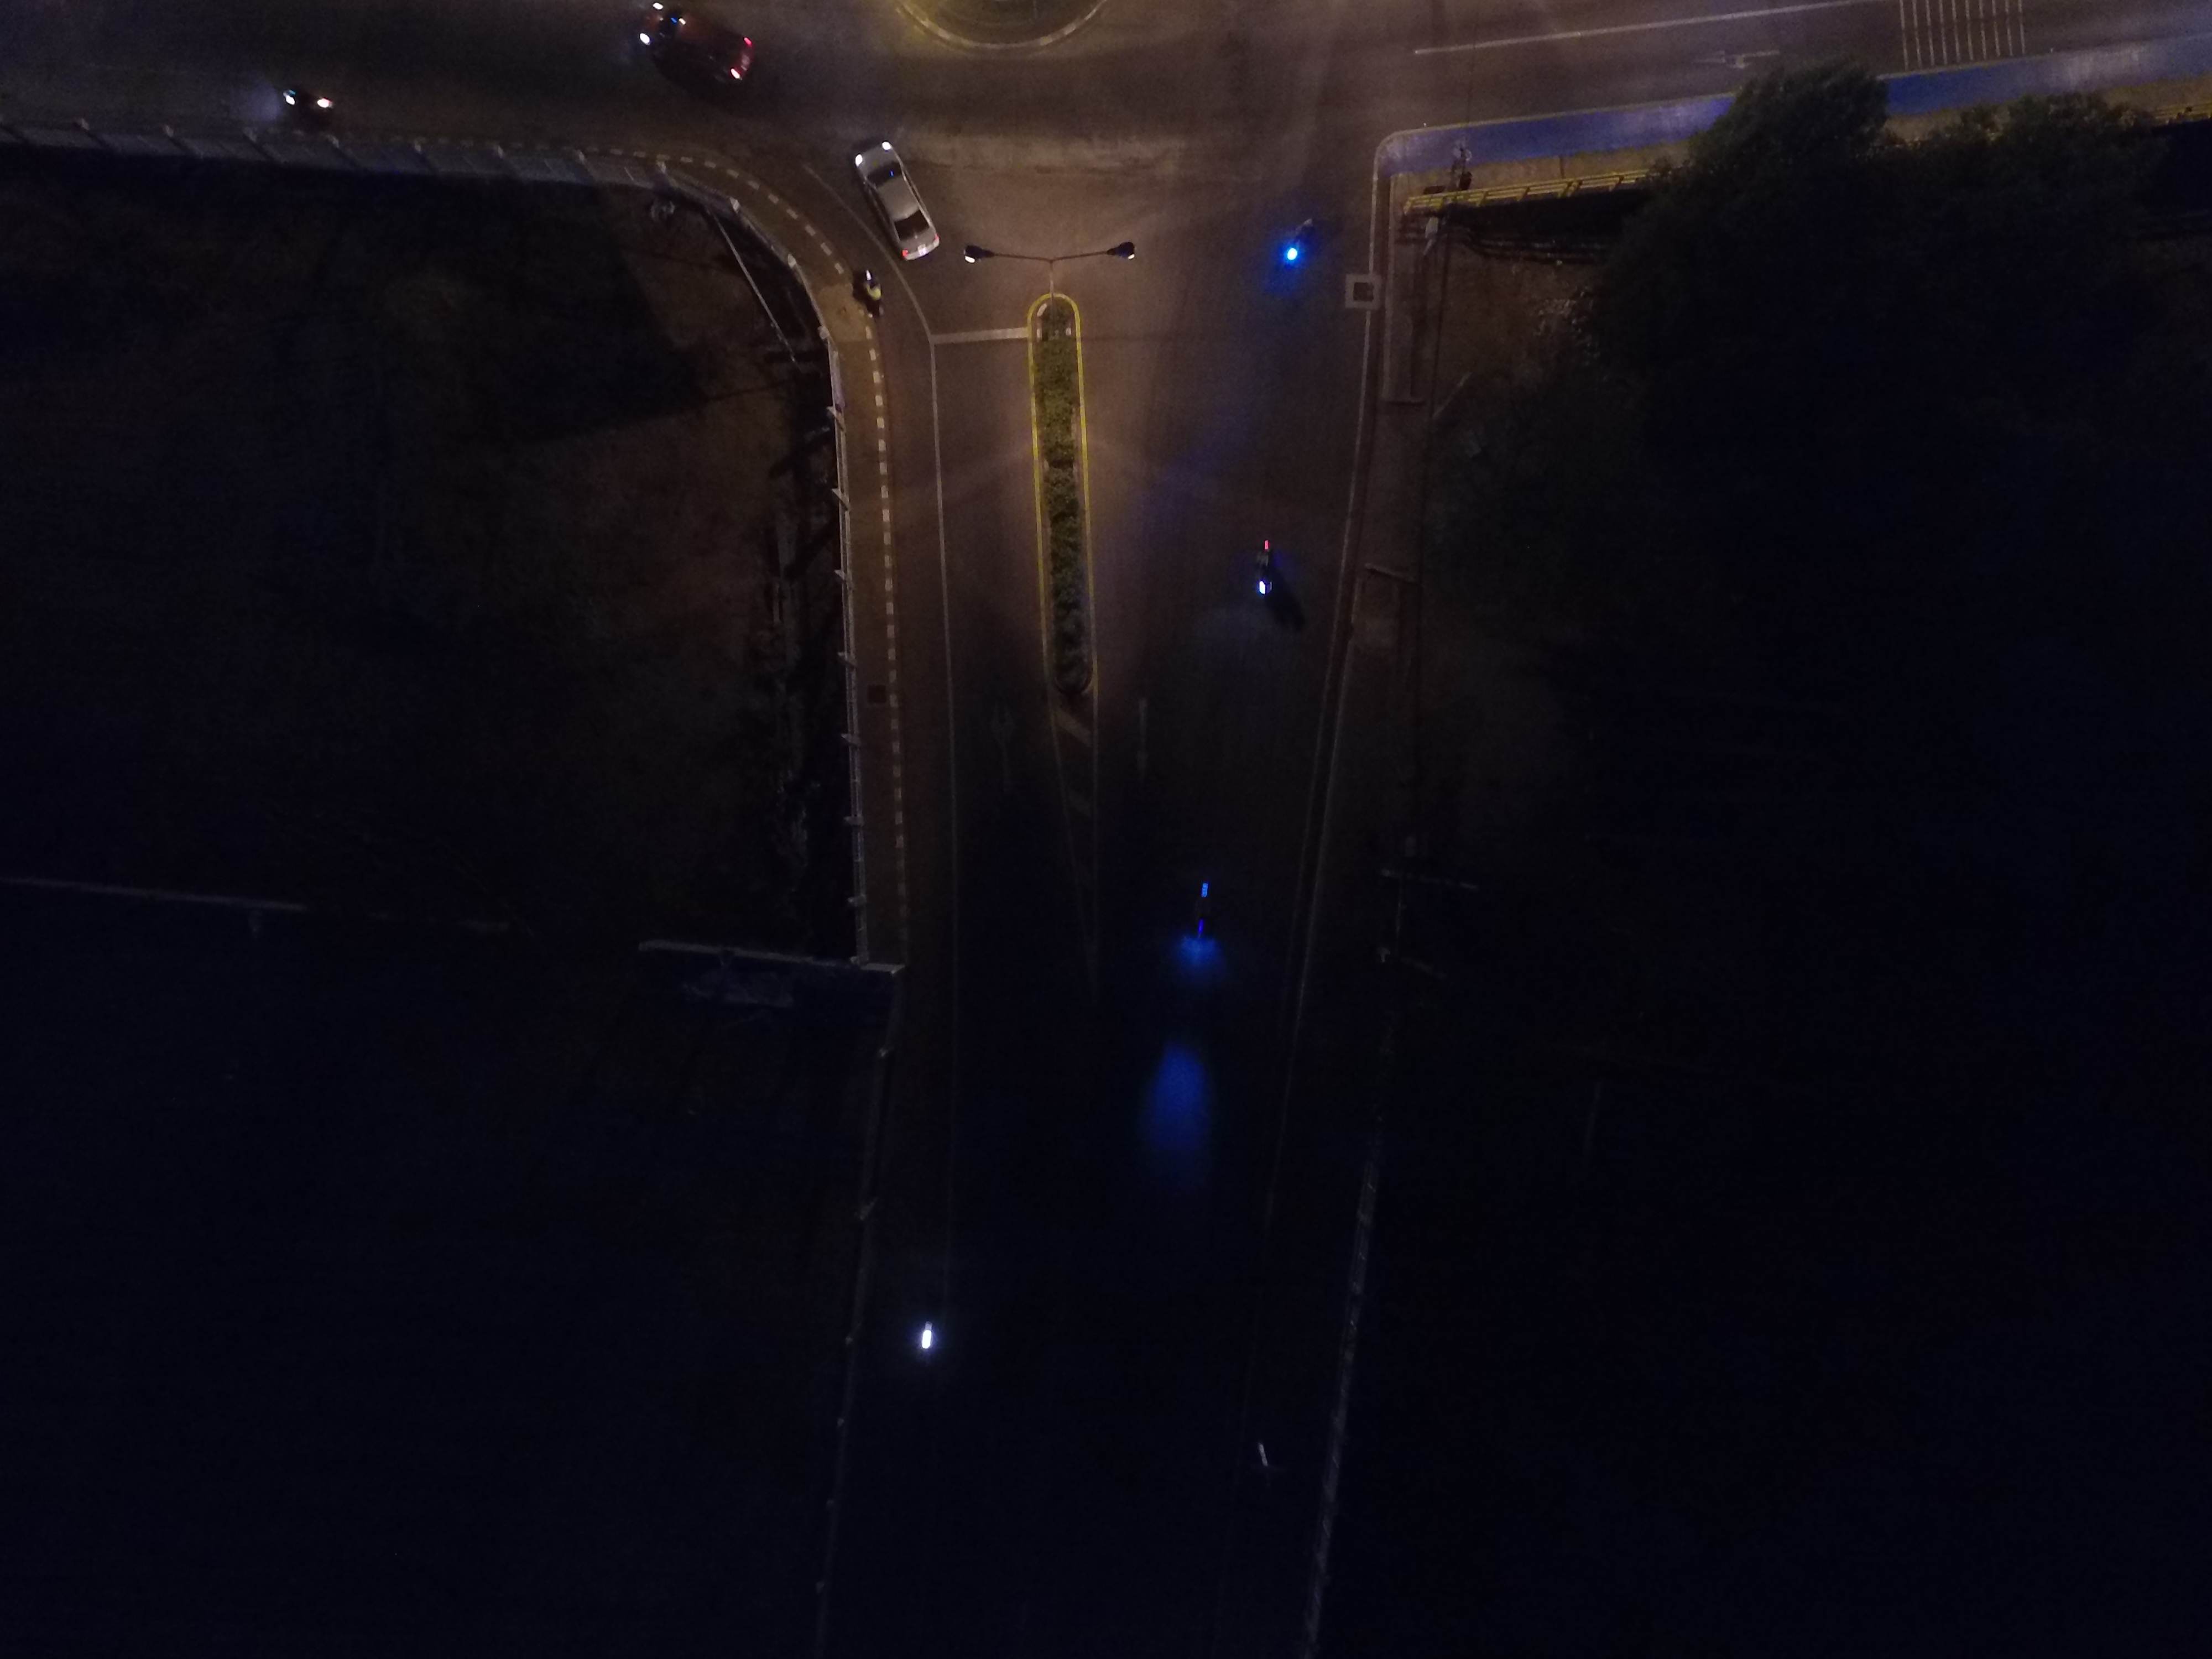car: (1414, 7, 1550, 85), (2116, 150, 2212, 232)
